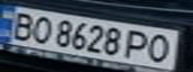2: (84, 22, 109, 55)
6: (69, 20, 90, 52)
8: (103, 25, 127, 57), (51, 17, 75, 48)
B: (3, 9, 39, 40)
O: (142, 31, 178, 64), (27, 14, 57, 45)
P: (121, 28, 154, 61)
